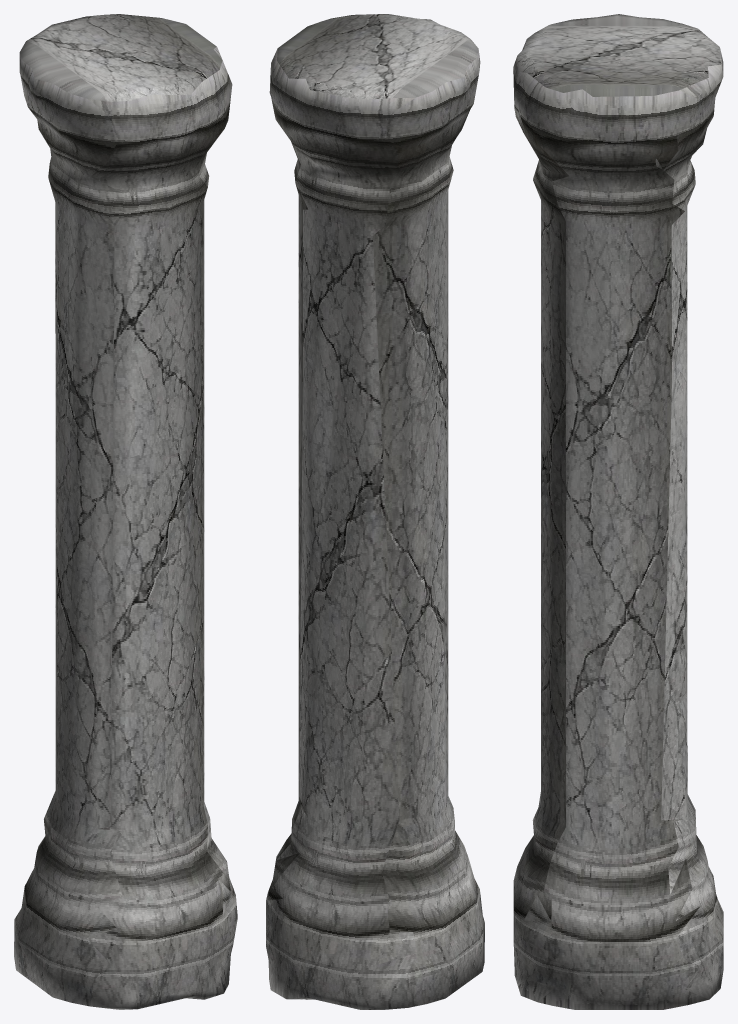
The model's file is pillar_high.glb.
3 renders of one model, left to right at view 1: azimuth 30°, elevation 25°; view 2: azimuth 150°, elevation 25°; view 3: azimuth 270°, elevation 25°, orthographic.
Visible parts, largest first — view 1: pillar_high; view 2: pillar_high; view 3: pillar_high.
Boxes of the visible parts, box(x1,y1,x2,y2) form: pillar_high: box(14, 14, 237, 1009); pillar_high: box(266, 14, 484, 1009); pillar_high: box(513, 14, 723, 1009).
Size of the model in its own units: 0.6675 by 3.21 by 0.6683.
Materials: 1 (1 with a texture image).
